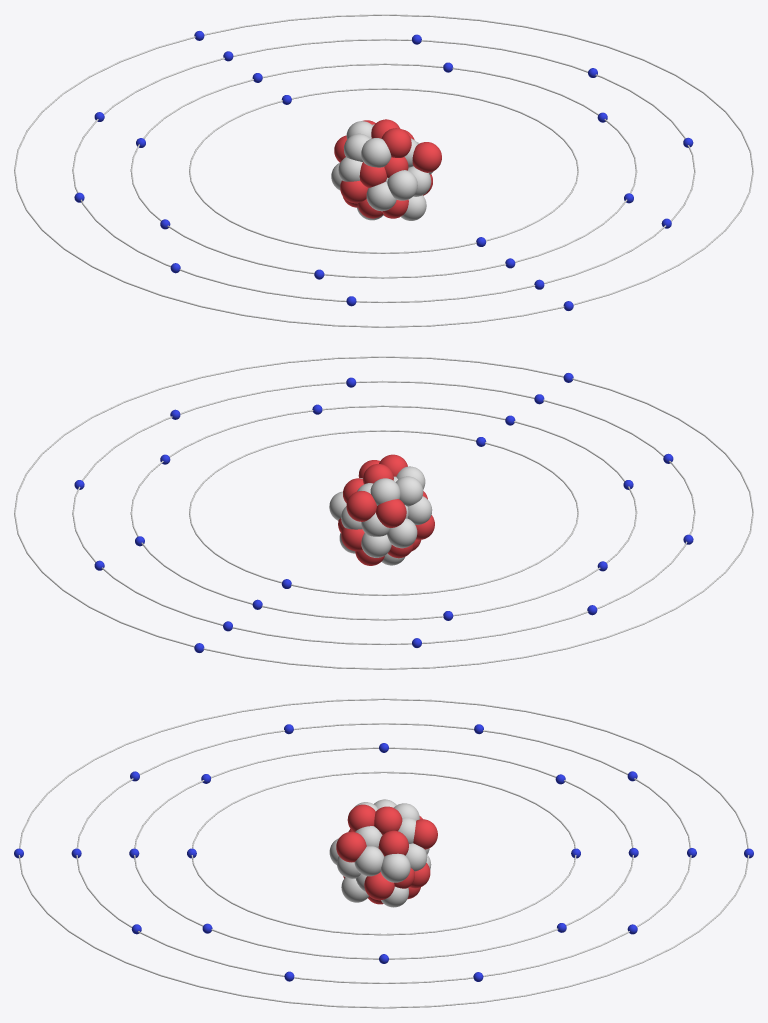
Rendered from Titan.glb.
3 views of the same model, one above another, from view 1: azimuth 30°, elevation 25°; view 2: azimuth 150°, elevation 25°; view 3: azimuth 270°, elevation 25° (orthographic).
Visible parts, largest first — view 1: N-Schale, M-Schale, L-Schale, K-Schale, Proton 21, Neutron 24, Neutron 26, Proton 22, Neutron 15; view 2: N-Schale, M-Schale, L-Schale, K-Schale, Proton 18, Proton 17, Neutron 16, Neutron 20, Neutron 22, Neutron 8; view 3: N-Schale, M-Schale, L-Schale, K-Schale, Proton 21, Neutron 25, Neutron 19, Proton 7, Proton 20, Proton 11, Proton 18, Proton 22.
Boxes of the visible parts, x1,y1,x2,y2 form: N-Schale: (14, 14, 753, 327); M-Schale: (72, 38, 695, 303); L-Schale: (130, 63, 637, 278); K-Schale: (189, 88, 578, 253); Proton 21: (412, 142, 441, 172); Neutron 24: (387, 170, 417, 200); Neutron 26: (361, 138, 391, 167); Proton 22: (381, 128, 411, 157); Neutron 15: (366, 182, 396, 211); N-Schale: (14, 356, 753, 669); M-Schale: (72, 380, 695, 645); L-Schale: (130, 405, 637, 620); K-Schale: (189, 430, 578, 595); Proton 18: (346, 491, 376, 521); Proton 17: (376, 499, 406, 527); Neutron 16: (387, 518, 417, 548); Neutron 20: (395, 476, 423, 506); Neutron 22: (370, 478, 400, 505); Neutron 8: (361, 533, 391, 557); N-Schale: (18, 698, 749, 1008); M-Schale: (76, 723, 691, 983); L-Schale: (134, 747, 633, 959); K-Schale: (191, 771, 576, 935); Proton 21: (336, 831, 366, 862); Neutron 25: (380, 853, 410, 882); Neutron 19: (354, 846, 384, 876); Proton 7: (378, 830, 408, 856); Proton 20: (374, 806, 402, 835); Proton 11: (364, 872, 394, 900); Proton 18: (413, 819, 437, 849); Proton 22: (347, 804, 375, 831).
Size of the model in its own units: 19.04 by 2.73 by 19.26.
